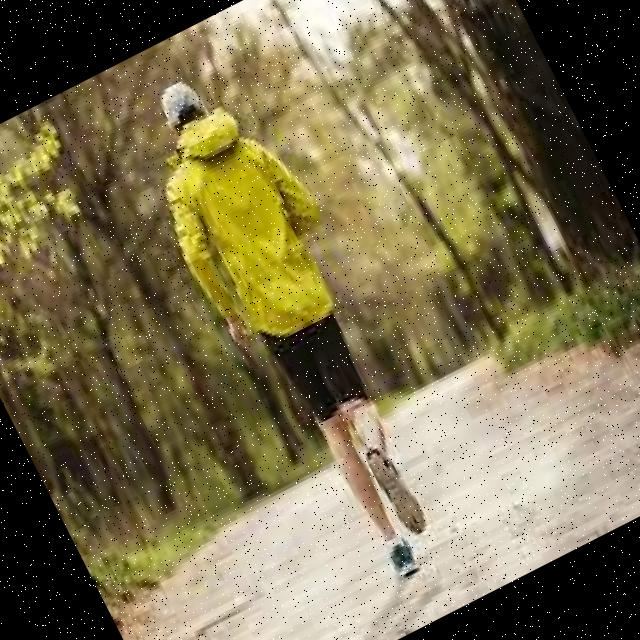Person: (111, 51, 486, 604)
